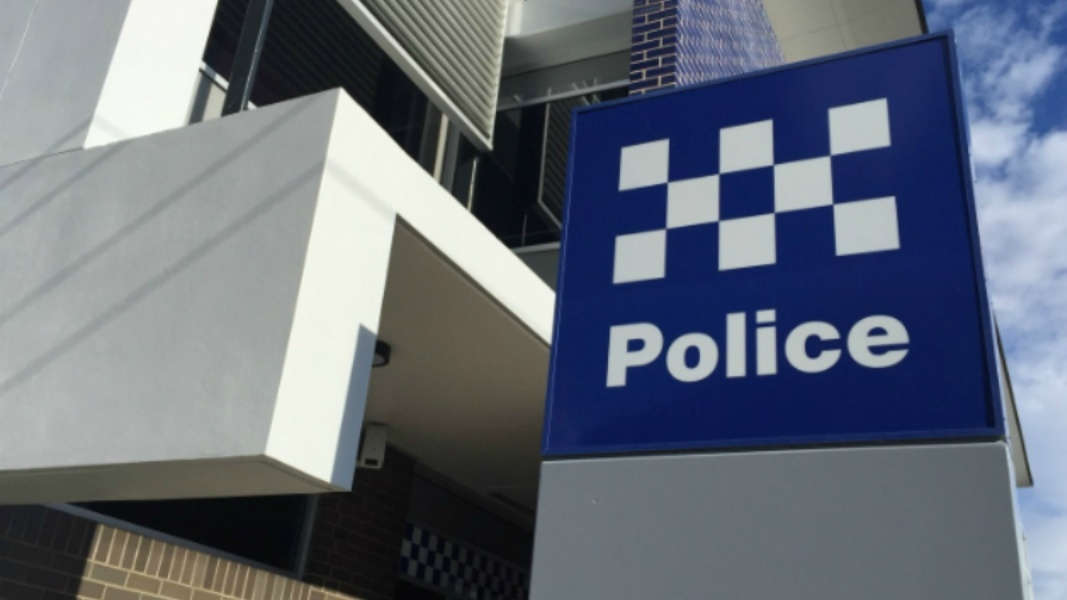text: (625, 299, 640, 388), (641, 299, 656, 388), (657, 299, 672, 388), (673, 299, 688, 388), (689, 299, 704, 388), (705, 299, 720, 388), (721, 299, 736, 388), (737, 299, 752, 388), (753, 299, 768, 388), (769, 299, 784, 388), (785, 299, 800, 388), (801, 299, 816, 388), (817, 299, 832, 388), (833, 299, 848, 388), (849, 299, 864, 388), (865, 299, 880, 388), (881, 299, 896, 388), (610, 299, 624, 388), (897, 299, 911, 388)
